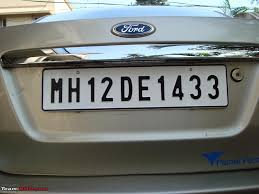number_plate: (32, 60, 239, 113)
